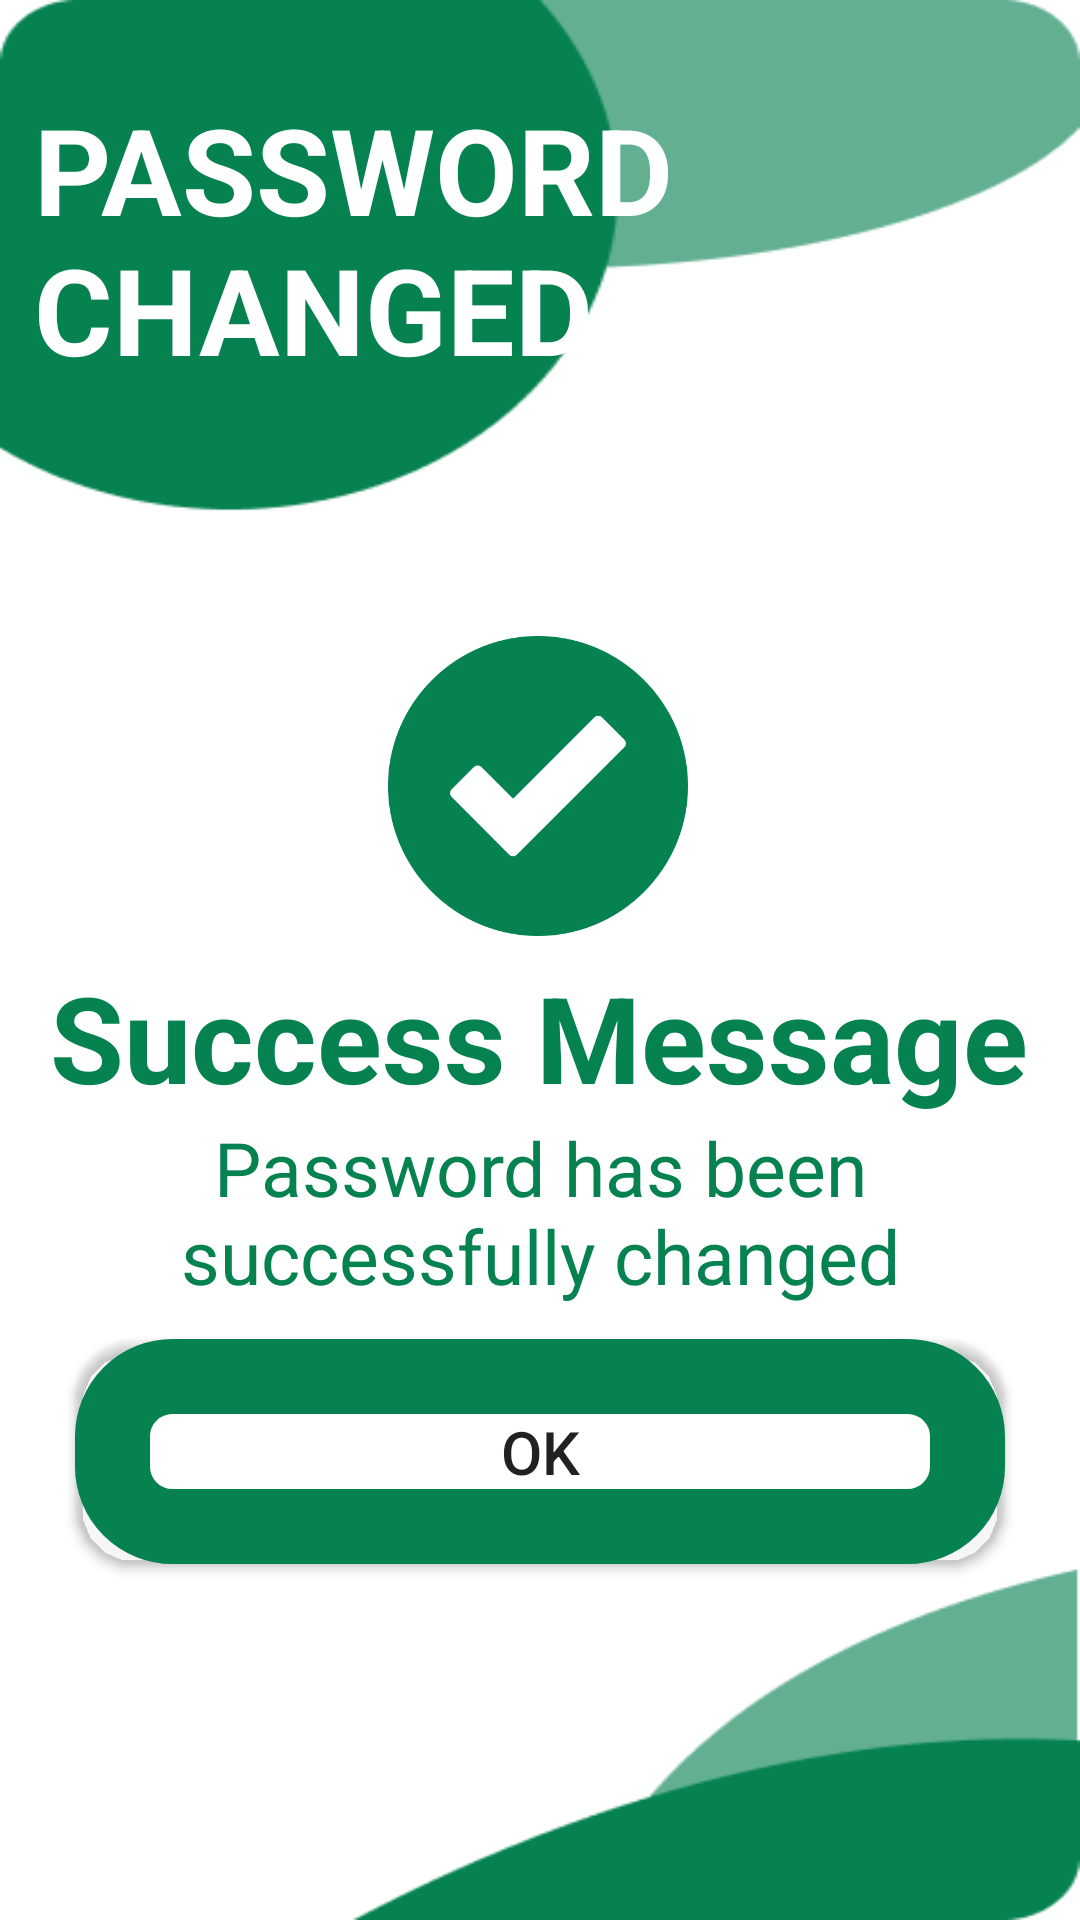

Icon bounding boxes for this 1080×1920 phone screenshot, format [x1,y1,x2,y2]:
accept: [388,636,688,936]
